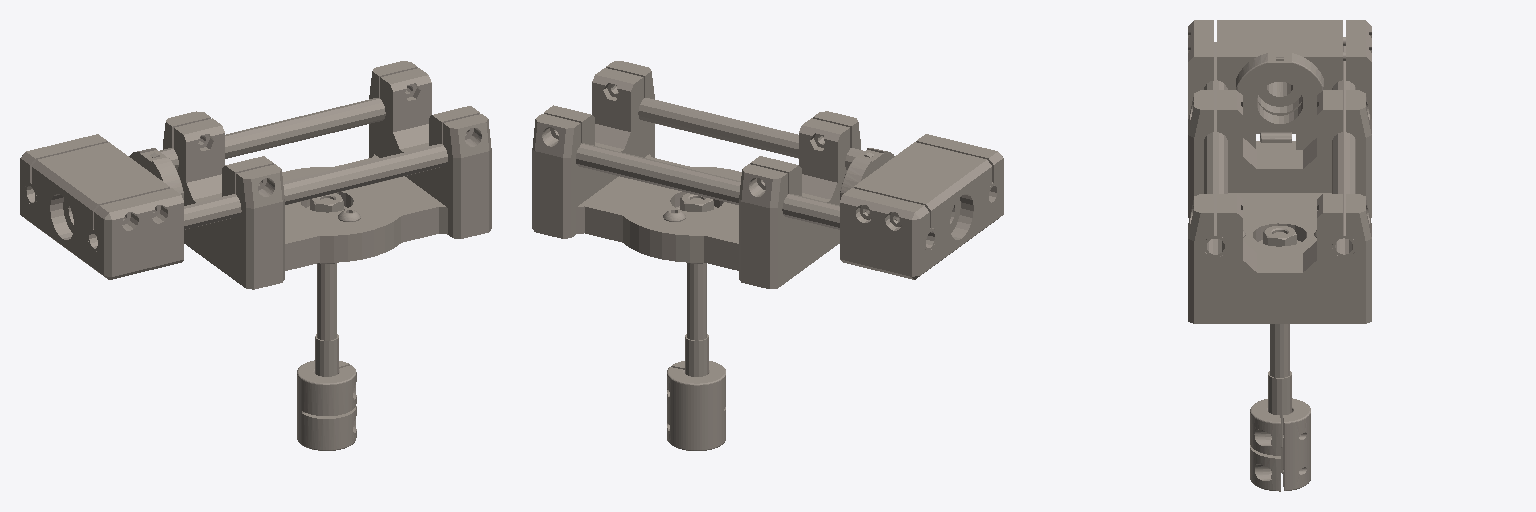
robot.urdf — inverted_pendulum_URDF:
<?xml version="1.0" encoding="utf-8"?>
<!-- This URDF was automatically created by SolidWorks to URDF Exporter! Originally created by [author] ([email redacted]) 
     Commit Version: 1.6.0-4-g7f85cfe  Build Version: 1.6.7995.38578
     For more information, please see http://wiki.ros.org/sw_urdf_exporter -->
<robot
  name="inverted_pendulum_URDF">
  <link
    name="base_link">
    <inertial>
      <origin
        xyz="4.35011143188239E-06 -4.26974202710915E-05 0.0926893522450359"
        rpy="0 0 0" />
      <mass
        value="0.951310569253784" />
      <inertia
        ixx="0.00149406454043322"
        ixy="4.12697804108289E-09"
        ixz="-7.65282756367958E-08"
        iyy="0.00140648625642533"
        iyz="8.80770910699998E-10"
        izz="0.000630646344660402" />
    </inertial>
    <visual>
      <origin
        xyz="0 0 0"
        rpy="0 0 0" />
      <geometry>
        <mesh
          filename="package://inverted_pendulum_URDF/meshes/base_link.STL" />
      </geometry>
      <material
        name="">
        <color
          rgba="0.792156862745098 0.819607843137255 0.933333333333333 1" />
      </material>
    </visual>
    <collision>
      <origin
        xyz="0 0 0"
        rpy="0 0 0" />
      <geometry>
        <mesh
          filename="package://inverted_pendulum_URDF/meshes/base_link.STL" />
      </geometry>
    </collision>
  </link>
  <link
    name="revolute_Link">
    <inertial>
      <origin
        xyz="-0.0175370700578145 -0.00016469410235089 0.00111078231813694"
        rpy="0 0 0" />
      <mass
        value="0.216240646404497" />
      <inertia
        ixx="5.58988467068262E-05"
        ixy="-2.47845250293903E-09"
        ixz="-6.15261336732486E-09"
        iyy="8.47733759009359E-05"
        iyz="4.85611321474861E-09"
        izz="0.000107267938774701" />
    </inertial>
    <visual>
      <origin
        xyz="0 0 0"
        rpy="0 0 0" />
      <geometry>
        <mesh
          filename="package://inverted_pendulum_URDF/meshes/revolute_Link.STL" />
      </geometry>
      <material
        name="">
        <color
          rgba="0.650980392156863 0.619607843137255 0.588235294117647 1" />
      </material>
    </visual>
    <collision>
      <origin
        xyz="0 0 0"
        rpy="0 0 0" />
      <geometry>
        <mesh
          filename="package://inverted_pendulum_URDF/meshes/revolute_Link.STL" />
      </geometry>
    </collision>
  </link>
  <joint
    name="revolute_joint"
    type="continuous">
    <origin
      xyz="0 0 0.2"
      rpy="0 0 0" />
    <parent
      link="base_link" />
    <child
      link="revolute_Link" />
    <axis
      xyz="0 0 1" />
    <limit
      lower="0"
      upper="0"
      effort="0"
      velocity="0" />
  </joint>
  <link
    name="first_pendulum_link">
    <inertial>
      <origin
        xyz="-1.00551614541671E-07 -0.0646186151454772 -0.00362087479361183"
        rpy="0 0 0" />
      <mass
        value="0.0997302210483473" />
      <inertia
        ixx="0.000174588068807012"
        ixy="-2.95045790870356E-10"
        ixz="2.21709158691471E-11"
        iyy="6.96835664909535E-06"
        iyz="5.24978381703527E-07"
        izz="0.000169216758156749" />
    </inertial>
    <visual>
      <origin
        xyz="0 0 0"
        rpy="0 0 0" />
      <geometry>
        <mesh
          filename="package://inverted_pendulum_URDF/meshes/first_pendulum_link.STL" />
      </geometry>
      <material
        name="">
        <color
          rgba="0.650980392156863 0.619607843137255 0.588235294117647 1" />
      </material>
    </visual>
    <collision>
      <origin
        xyz="0 0 0"
        rpy="0 0 0" />
      <geometry>
        <mesh
          filename="package://inverted_pendulum_URDF/meshes/first_pendulum_link.STL" />
      </geometry>
    </collision>
  </link>
  <joint
    name="first_pendulum_joint"
    type="continuous">
    <origin
      xyz="-0.107 -0.0002 0.023198"
      rpy="1.5708 0 -1.5708" />
    <parent
      link="revolute_Link" />
    <child
      link="first_pendulum_link" />
    <axis
      xyz="0 0 1" />
    <limit
      lower="0"
      upper="0"
      effort="0"
      velocity="0" />
  </joint>
  <link
    name="second_pendulum_link">
    <inertial>
      <origin
        xyz="-2.8765755728709E-06 -0.0299439674255459 0.00119447713150889"
        rpy="0 0 0" />
      <mass
        value="0.00680601326910171" />
      <inertia
        ixx="1.8911424822564E-06"
        ixy="-9.8432286079085E-12"
        ixz="2.35767361175274E-10"
        iyy="2.84550526022121E-07"
        iyz="3.87915762114474E-08"
        izz="2.05641965585819E-06" />
    </inertial>
    <visual>
      <origin
        xyz="0 0 0"
        rpy="0 0 0" />
      <geometry>
        <mesh
          filename="package://inverted_pendulum_URDF/meshes/second_pendulum_link.STL" />
      </geometry>
      <material
        name="">
        <color
          rgba="0.792156862745098 0.819607843137255 0.933333333333333 1" />
      </material>
    </visual>
    <collision>
      <origin
        xyz="0 0 0"
        rpy="0 0 0" />
      <geometry>
        <mesh
          filename="package://inverted_pendulum_URDF/meshes/second_pendulum_link.STL" />
      </geometry>
    </collision>
  </link>
  <joint
    name="second_pendulum_joint"
    type="continuous">
    <origin
      xyz="0 -0.1432 0.0095"
      rpy="0 0 0" />
    <parent
      link="first_pendulum_link" />
    <child
      link="second_pendulum_link" />
    <axis
      xyz="0 0 1" />
    <limit
      lower="0"
      upper="0"
      effort="0"
      velocity="0" />
  </joint>
</robot>

--- Facts derived from the render (not from the file) ---
Views: 3 orthographic renders of the robot side by side, from view 1: azimuth 30°, elevation 25°; view 2: azimuth 150°, elevation 25°; view 3: azimuth 270°, elevation 25°.
Model inverted_pendulum_URDF with 4 links and 3 joints (3 continuous), rooted at base_link, posed all joints at 0.
Links seen in each view (by area): view 1: revolute_Link; view 2: revolute_Link; view 3: revolute_Link.
Link boxes in pixels (x1,y1,x2,y2): revolute_Link: [20, 61, 491, 450]; revolute_Link: [532, 61, 1003, 450]; revolute_Link: [1188, 20, 1371, 491].
Bounding box of the posed robot: 0.15 × 0.06 × 0.121 m (x, y, z).
1 mesh visuals loaded from 4 distinct referenced files (1 binary STL); not drawn: 3 (reference not matched to a file when rendering).